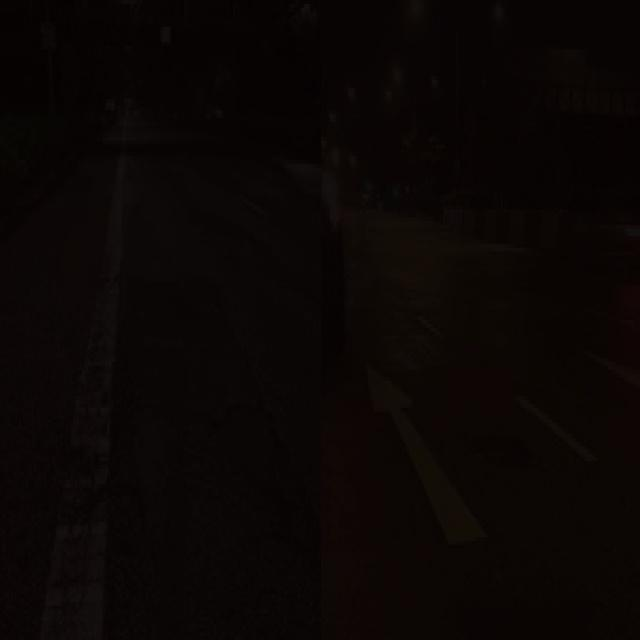Pothole: (202, 390, 306, 532), (115, 396, 202, 548), (450, 413, 544, 497)
